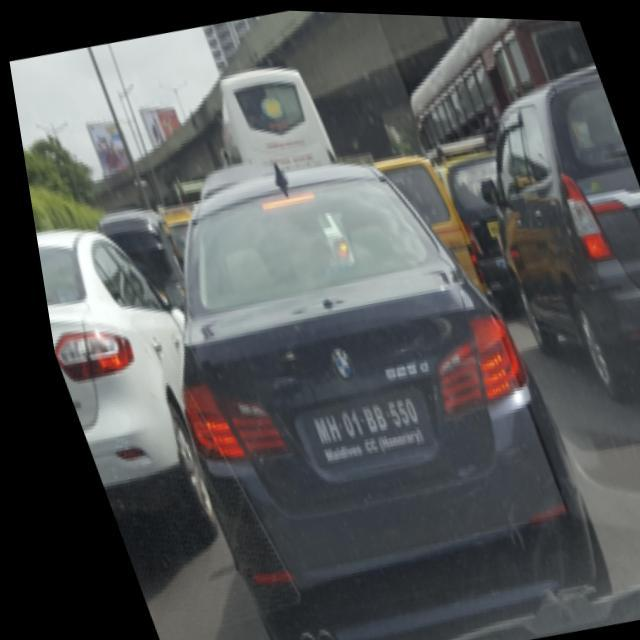license_plate: (274, 378, 430, 477)
